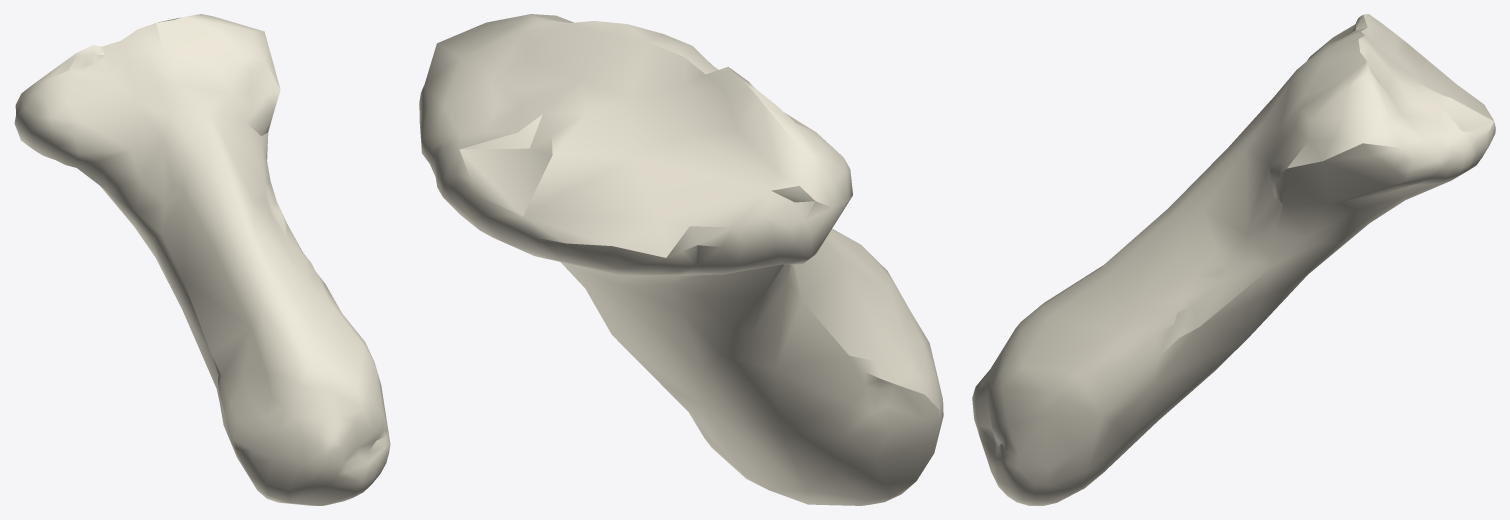
Rendered from fma24463_mm1890.glb.
3 renders of one model, left to right at view 1: azimuth 30°, elevation 25°; view 2: azimuth 150°, elevation 25°; view 3: azimuth 270°, elevation 25°, orthographic. The views are drawn at different scales.
Visible parts, largest first — view 1: FMA24463_MM1890; view 2: FMA24463_MM1890; view 3: FMA24463_MM1890.
Part boxes in pixels (x1,y1,x2,y2): FMA24463_MM1890: (14, 14, 390, 505); FMA24463_MM1890: (419, 14, 943, 505); FMA24463_MM1890: (972, 14, 1495, 505).
Bounding box in the file's own units: 0.00833 × 0.0128 × 0.0136.
